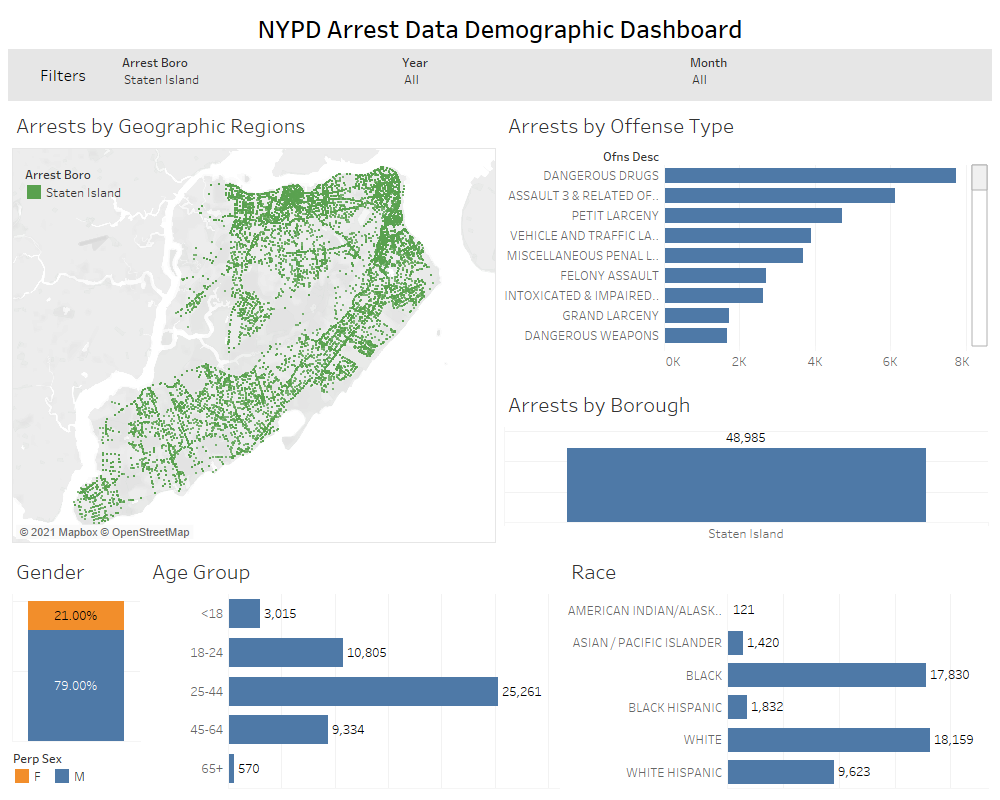

What the dashboard file says about the page in this screenshot:
{"tool":"tableau","page":{"name":"NYPD Arrest Data Demographic Dashboard","canvas":[1000,800],"ordinal":0},"visuals":[{"type":"title","box":[8,8,984,41]},{"type":"text","box":[8,49,110,52]},{"type":"filter","title":"Arrests by Offense Type","param":"[federated.0u0g2jr0y9b0lh1fggo9v036ljvq].[none:ARREST_BORO:nk]","box":[118,49,280,52]},{"type":"filter","title":"Arrests by Offense Type","param":"[federated.0u0g2jr0y9b0lh1fggo9v036ljvq].[yr:ARREST_DATE:ok]","box":[398,49,288,52]},{"type":"filter","title":"Arrests by Offense Type","param":"[federated.0u0g2jr0y9b0lh1fggo9v036ljvq].[mn:ARREST_DATE:ok]","box":[686,49,306,52]},{"type":"worksheet","title":"Arrests by Borough","mark":"Automatic","rows":["Latitude"],"cols":["Longitude"],"box":[8,101,492,445.8]},{"type":"worksheet","title":"Arrests by Offense Type","mark":"Automatic","rows":["OFNS_DESC"],"cols":["ARREST_DATE"],"box":[500,101,492,445.8]},{"type":"legend","title":"Arrests by Borough","param":"[federated.0u0g2jr0y9b0lh1fggo9v036ljvq].[none:ARREST_BORO:nk]","box":[29,164,140,118]},{"type":"worksheet","title":"Gender","mark":"Automatic","rows":["ARREST_DATE"],"box":[8,546.8,136,197.5]},{"type":"worksheet","title":"Age Group","mark":"Automatic","rows":["AGE_GROUP"],"cols":["ARREST_DATE"],"box":[144,546.8,419,245.2]},{"type":"worksheet","title":"Race","mark":"Automatic","rows":["PERP_RACE"],"cols":["ARREST_DATE"],"box":[563,546.8,429,245.2]},{"type":"legend","title":"Gender","param":"[federated.0u0g2jr0y9b0lh1fggo9v036ljvq].[none:PERP_SEX:nk]","box":[8,744.4,136,47.6]}]}

Visuals, with their boxes in screenshot pixels (x1, y1, x2, y2), scaled from the page's 1000x800 canvas onto the 1000x800 screenshot:
title: 8, 8, 992, 49
text: 8, 49, 118, 101
"Arrests by Offense Type" filter: 118, 49, 398, 101
"Arrests by Offense Type" filter: 398, 49, 686, 101
"Arrests by Offense Type" filter: 686, 49, 992, 101
"Arrests by Borough" worksheet: 8, 101, 500, 547
"Arrests by Offense Type" worksheet: 500, 101, 992, 547
"Arrests by Borough" legend: 29, 164, 169, 282
"Gender" worksheet: 8, 547, 144, 744
"Age Group" worksheet: 144, 547, 563, 792
"Race" worksheet: 563, 547, 992, 792
"Gender" legend: 8, 744, 144, 792
